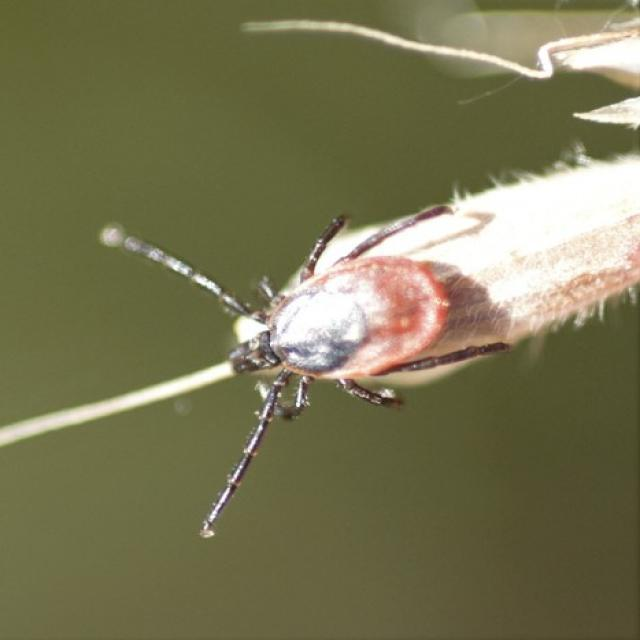Ixodes Ricinus-F: (101, 201, 518, 538)
